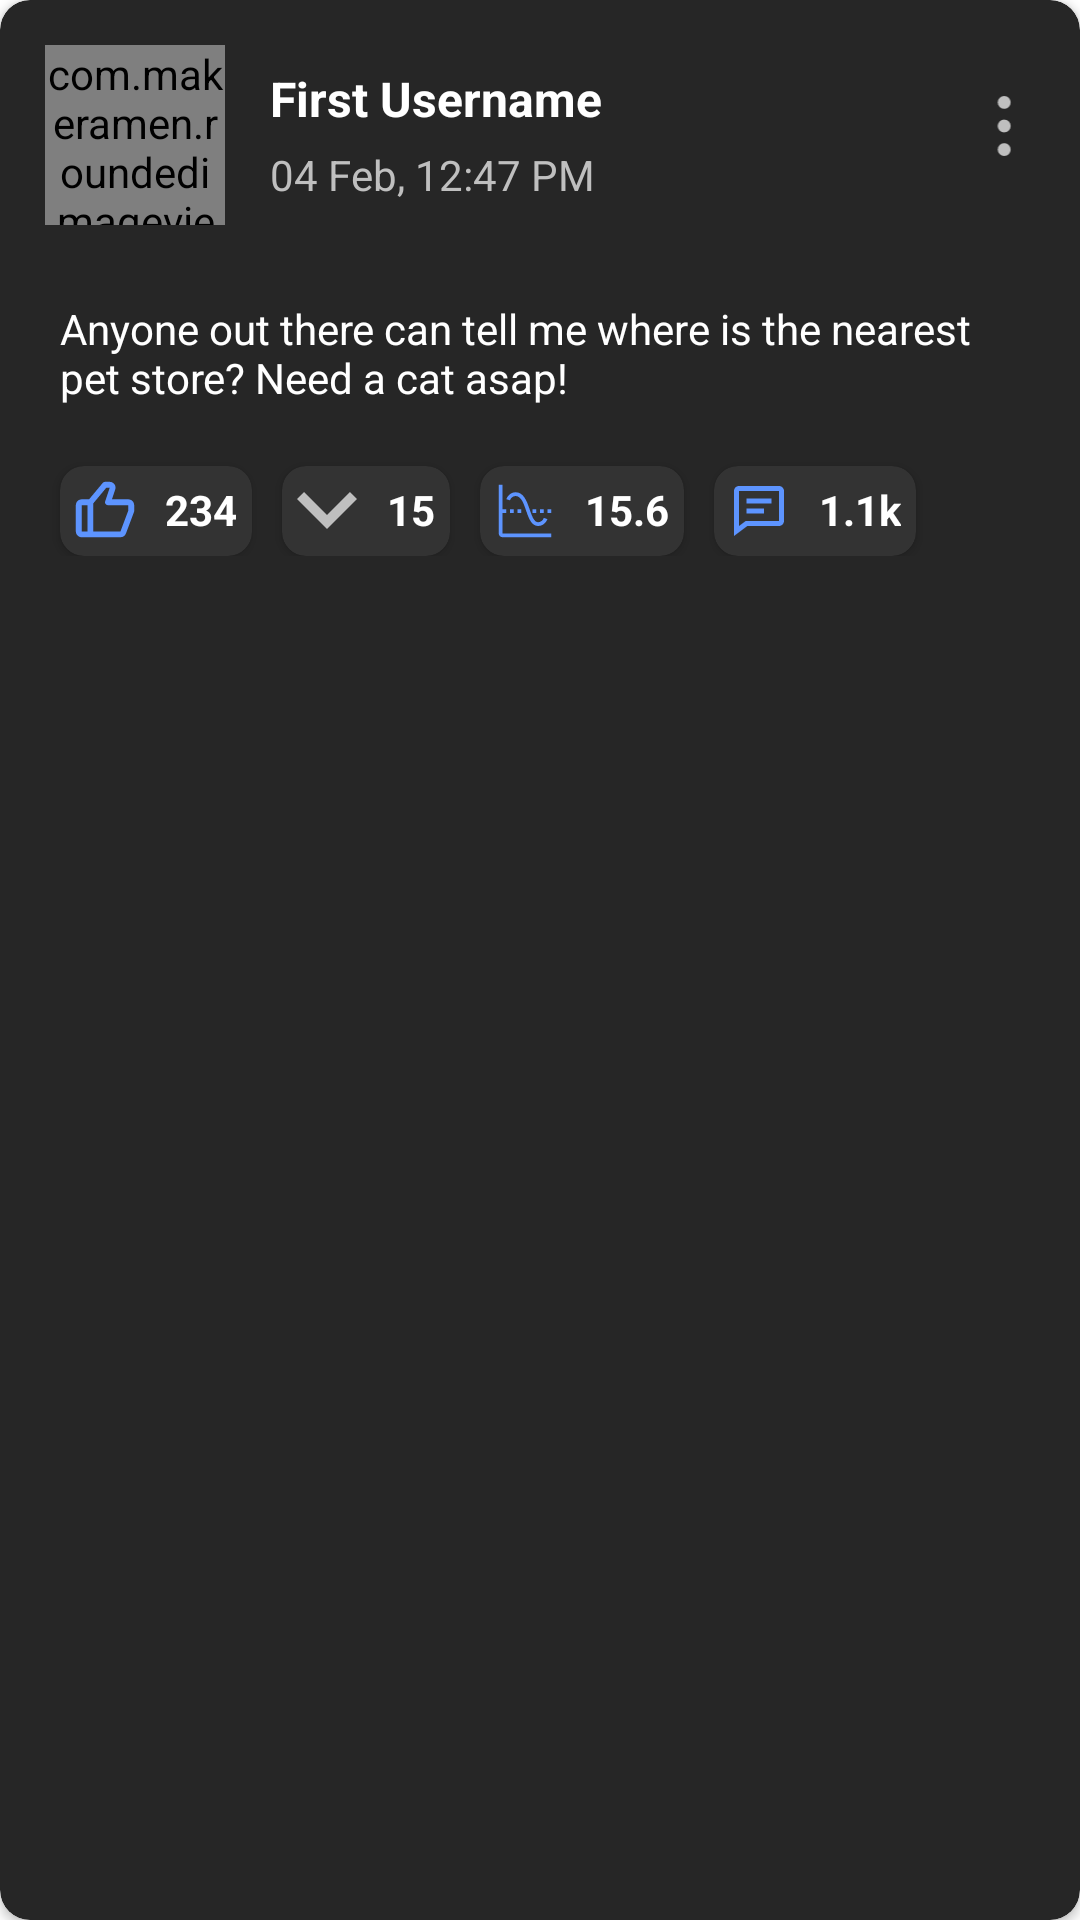

Icons on this 1080px×1920px Android screen, each with its box as (x1, y1, x2, y2):
down: (297, 492, 357, 529)
graph: (498, 484, 552, 538)
minchat: (734, 486, 784, 536)
point menu: (997, 96, 1011, 156)
